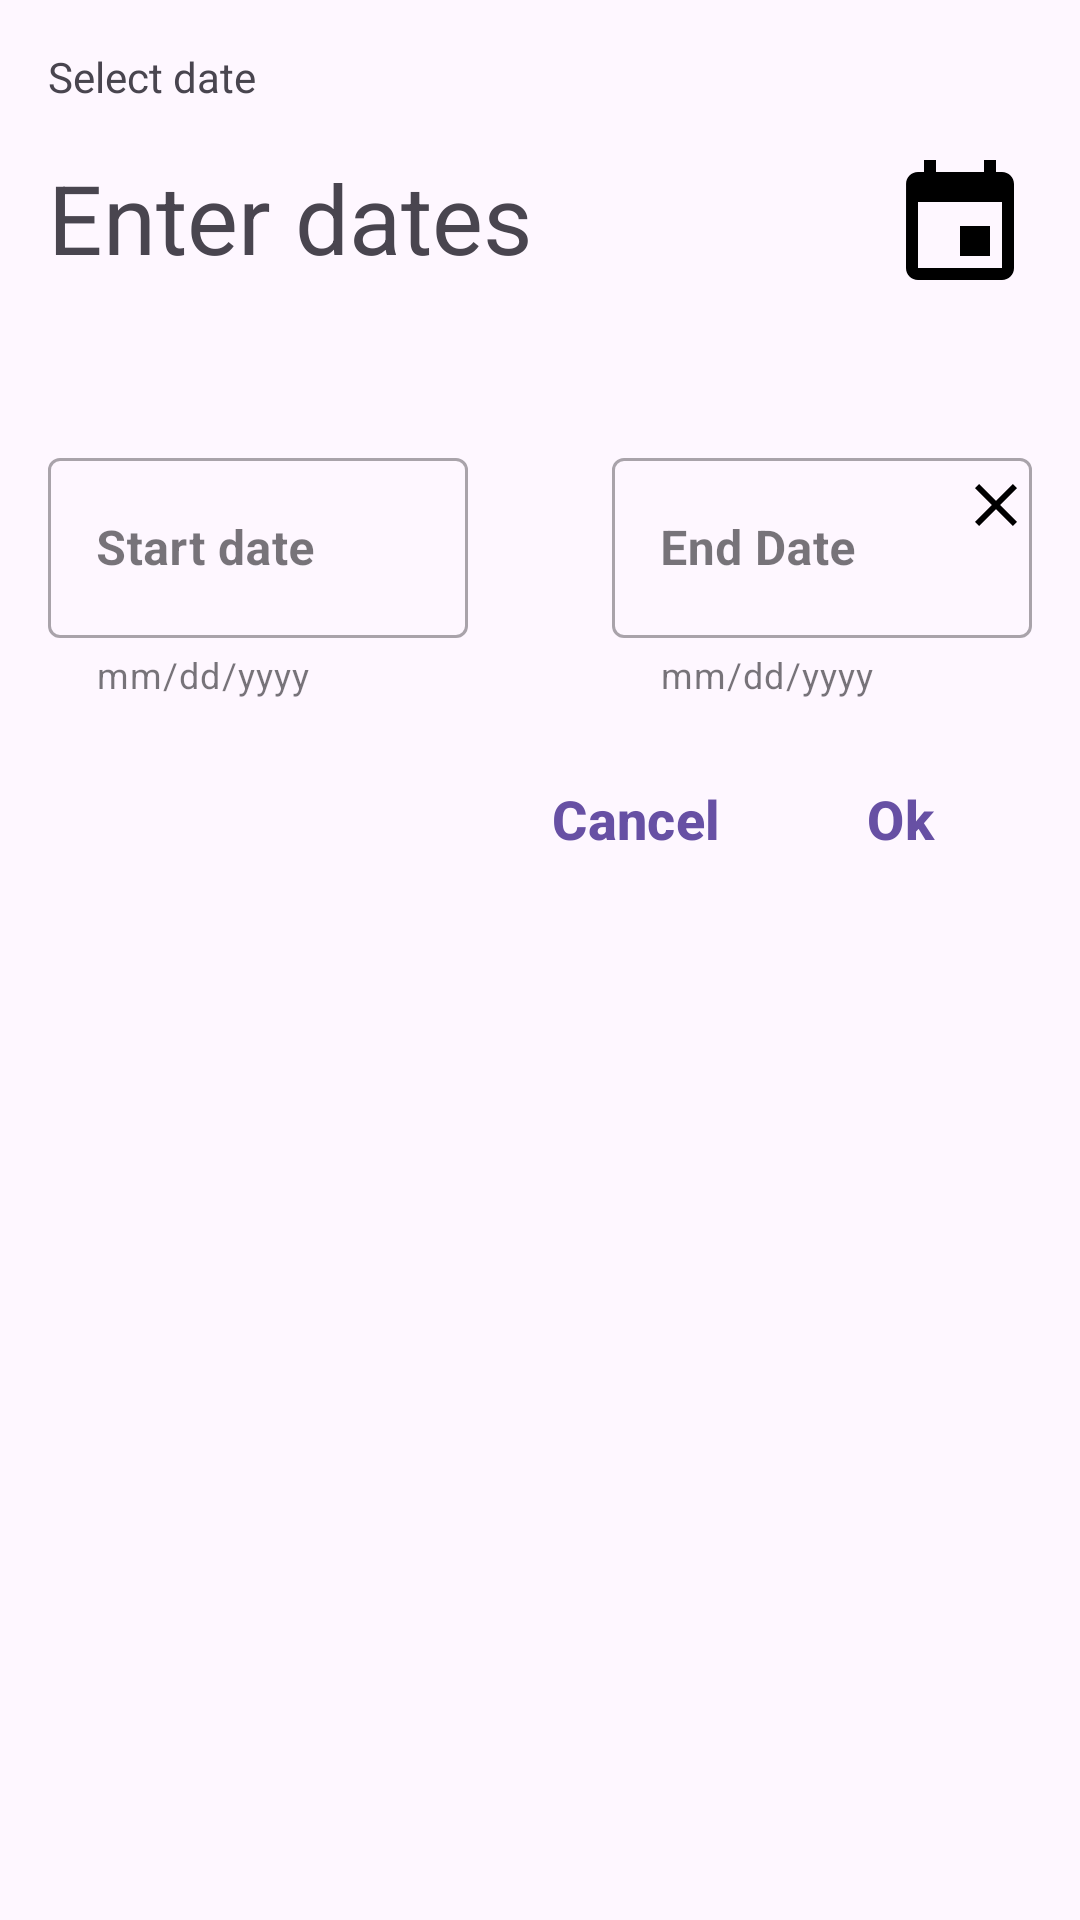

Where to tap for icons on this 1080w x 1920h app screen, as (x,y):
clear: (996,505)
Select date: (960,220)
